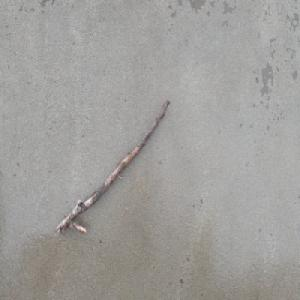Wood: (55, 96, 171, 235)
